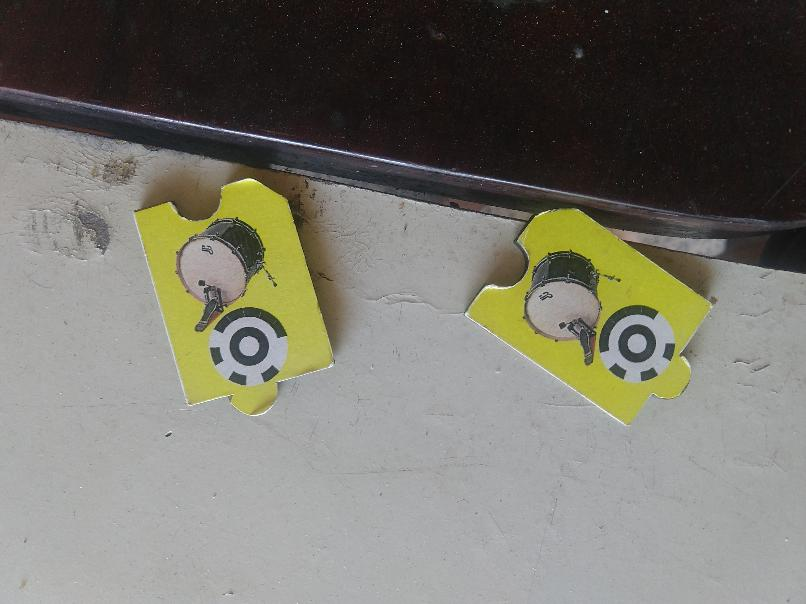bumbo: (463, 206, 714, 429), (127, 172, 335, 426)
